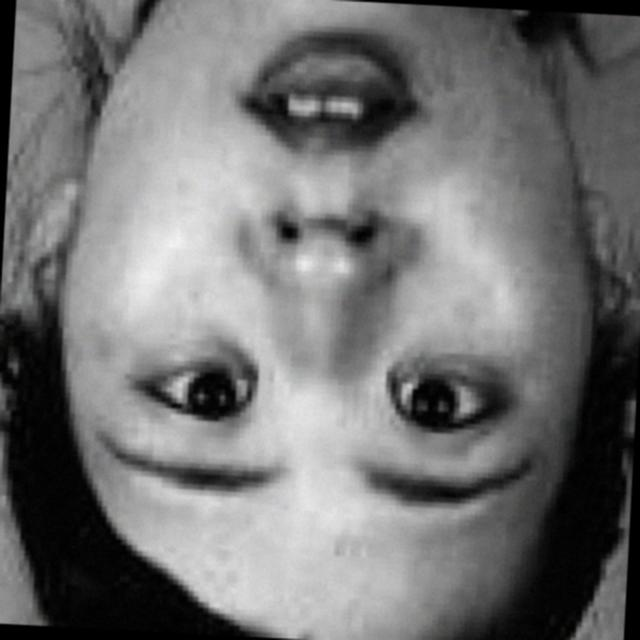fear: (71, 0, 576, 579)
